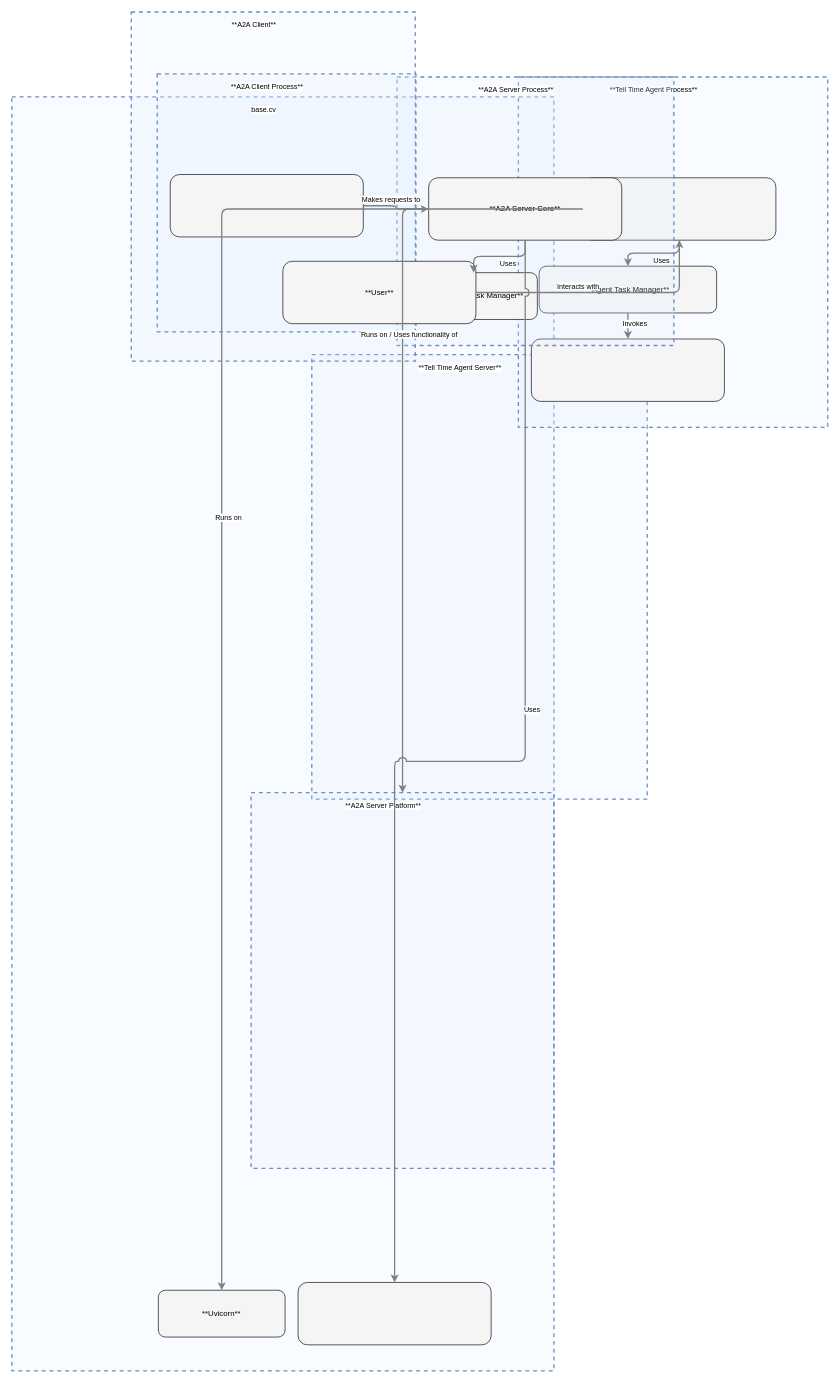
Image size: 840x1383. Some labels were removed from this diagram. Here are the shapes that lost their labels. From the top down, the centre of each, then its label:
[266,205]: **A2A Client Logic**
[679,208]: **A2A Server**
[627,369]: **Tell Time Agent**
[394,1313]: **Starlette**
